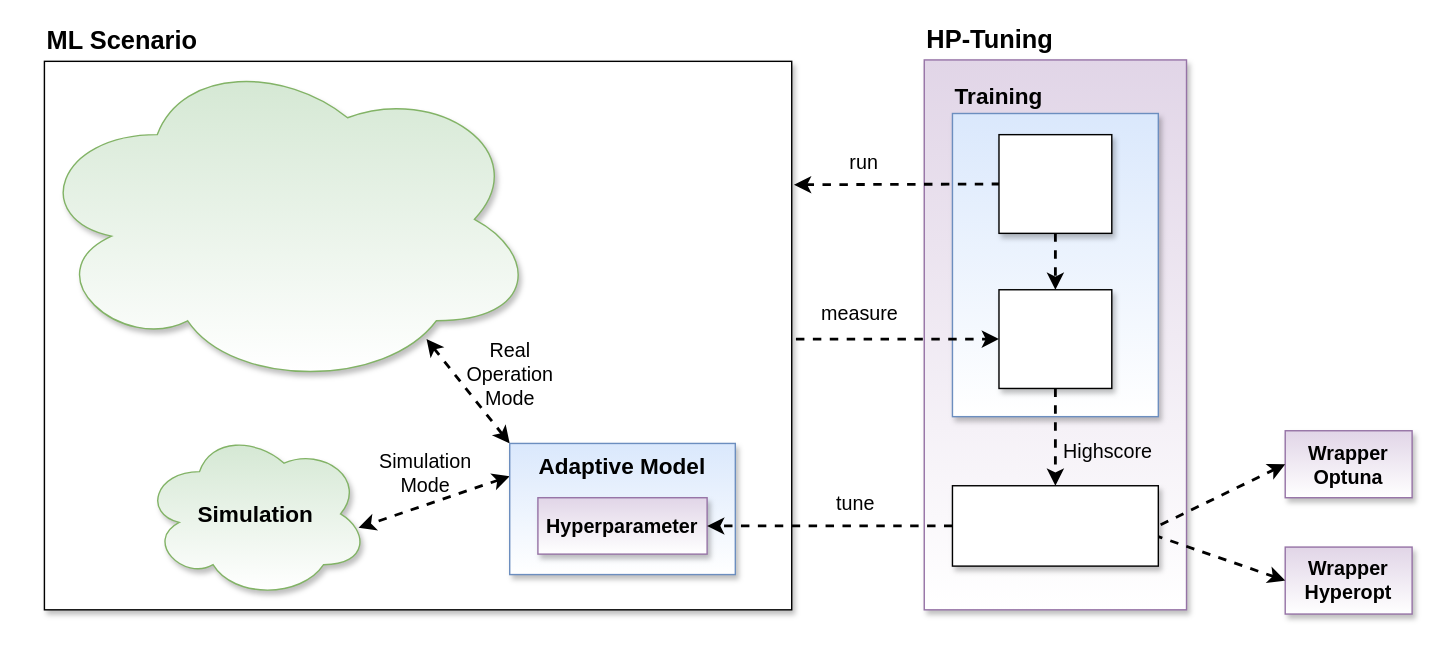
Some shapes in this 1445 by 649 pixel diagram are drawn without their labels. The centre of each missing label's shape, as x and y in pixels:
Evaluation: the point at 1056,340
Execution: the point at 1056,185
Optimization: the point at 1056,527
Real World: the point at 284,220
